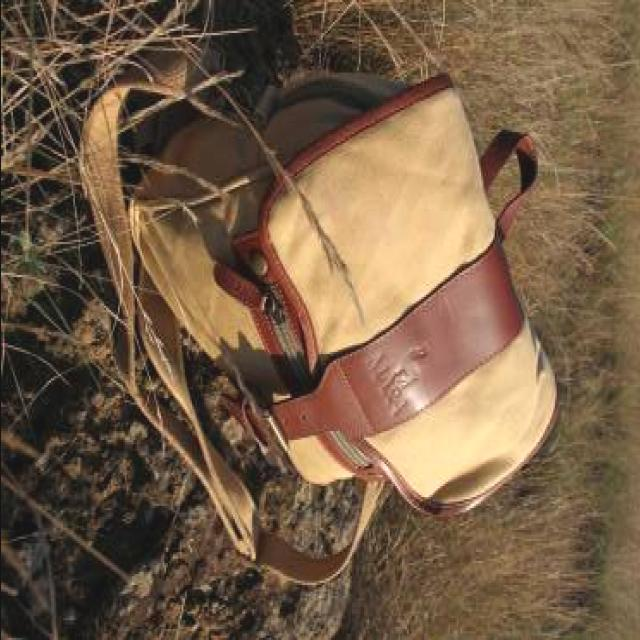backpack: (82, 54, 564, 586)
